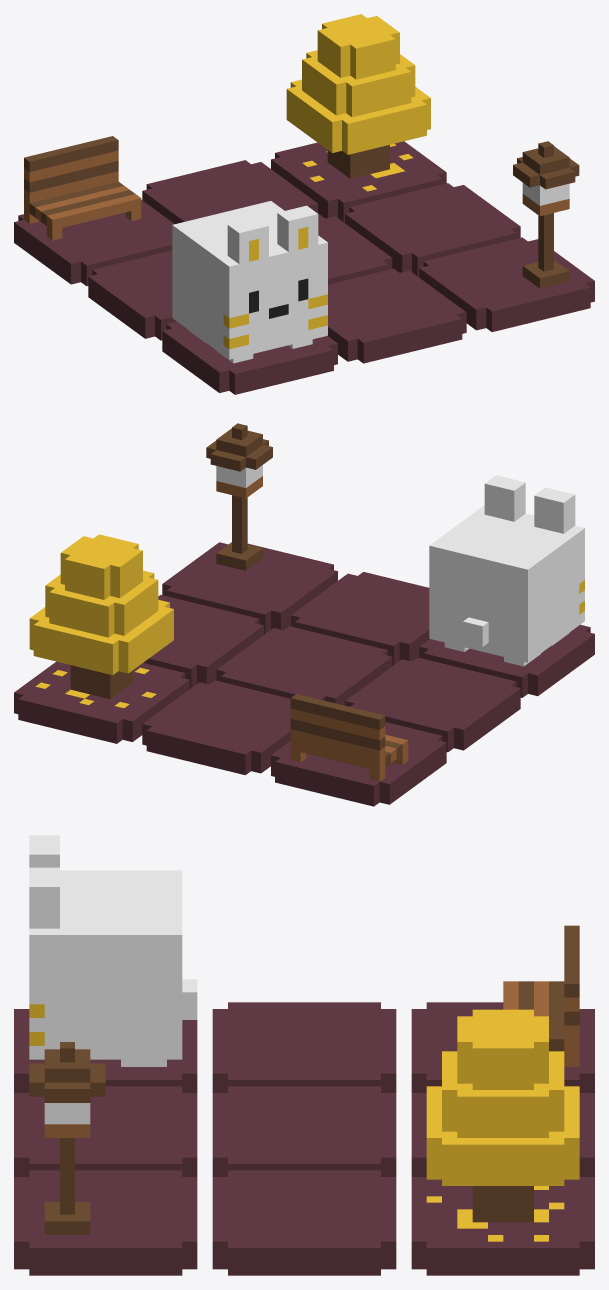
The model's file is hard_five_tile.obj.
3 views of the same model, one above another, from view 1: azimuth 30°, elevation 25°; view 2: azimuth 150°, elevation 25°; view 3: azimuth 270°, elevation 25° (orthographic). The views are drawn at different scales.
Bounding box in the file's own units: 3.8 × 1.5 × 3.8.
1 material, 1 textured.
